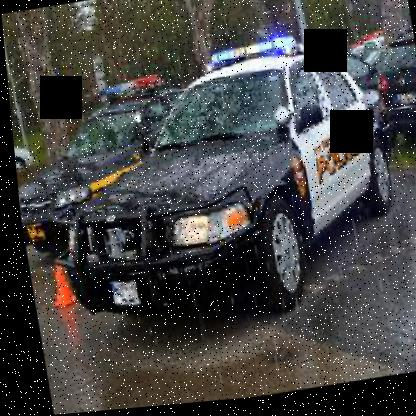emergency: (31, 20, 415, 356), (6, 66, 207, 259)
not_emergency: (366, 29, 415, 152)
